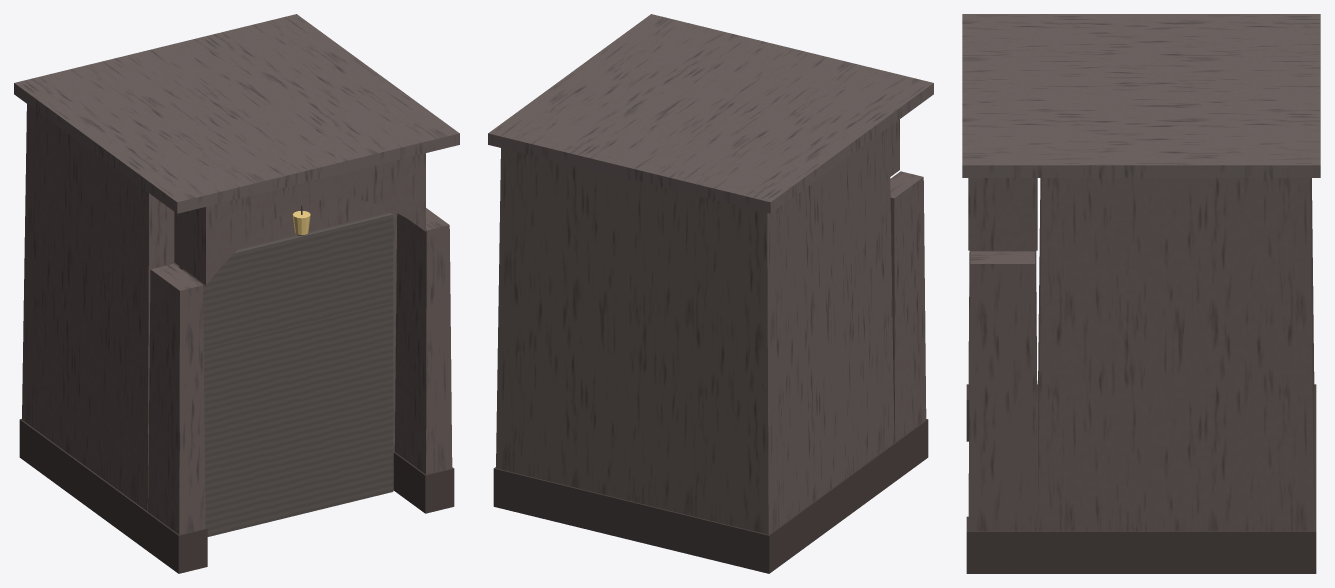
The model's file is SM_Souq_Stall_W3D30H38.fbx.
3 renders of one model, left to right at view 1: azimuth 30°, elevation 25°; view 2: azimuth 150°, elevation 25°; view 3: azimuth 270°, elevation 25°, orthographic. The views are drawn at different scales.
Visible parts, largest first — view 1: SM_Souq_Stall_W3D30H38; view 2: SM_Souq_Stall_W3D30H38; view 3: SM_Souq_Stall_W3D30H38.
Boxes of the visible parts, bbox=[...] form: SM_Souq_Stall_W3D30H38: bbox=[14, 14, 459, 573]; SM_Souq_Stall_W3D30H38: bbox=[488, 14, 933, 573]; SM_Souq_Stall_W3D30H38: bbox=[962, 14, 1320, 573].
Bounding box in the file's own units: 310 × 392 × 310.
Materials: 6 (6 with a texture image).
